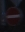No entry: (5, 5, 20, 27)
